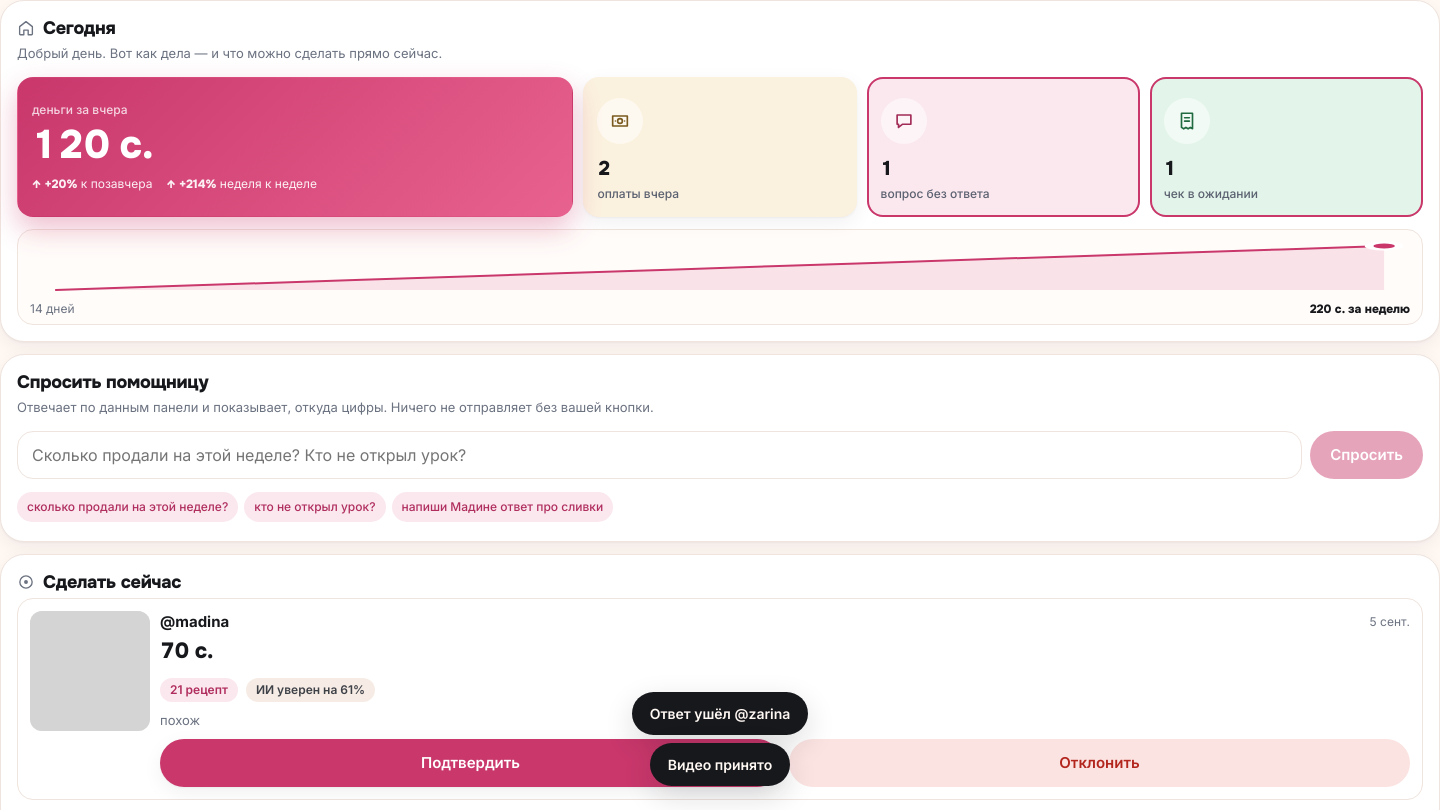
it: DashboardPage «Сегодня» › подтверждение чека из очереди: карточка прячется сразу, запрос уходит через 5 с, «Отменить» его гасит
This screenshot has width=1440, height=810.
Expected: the element with test id "receipt-r1" is shown, [17, 598, 1423, 800]
Click the button "Подтвердить": [470, 763] box [160, 739, 781, 787]
Wait 300 ms
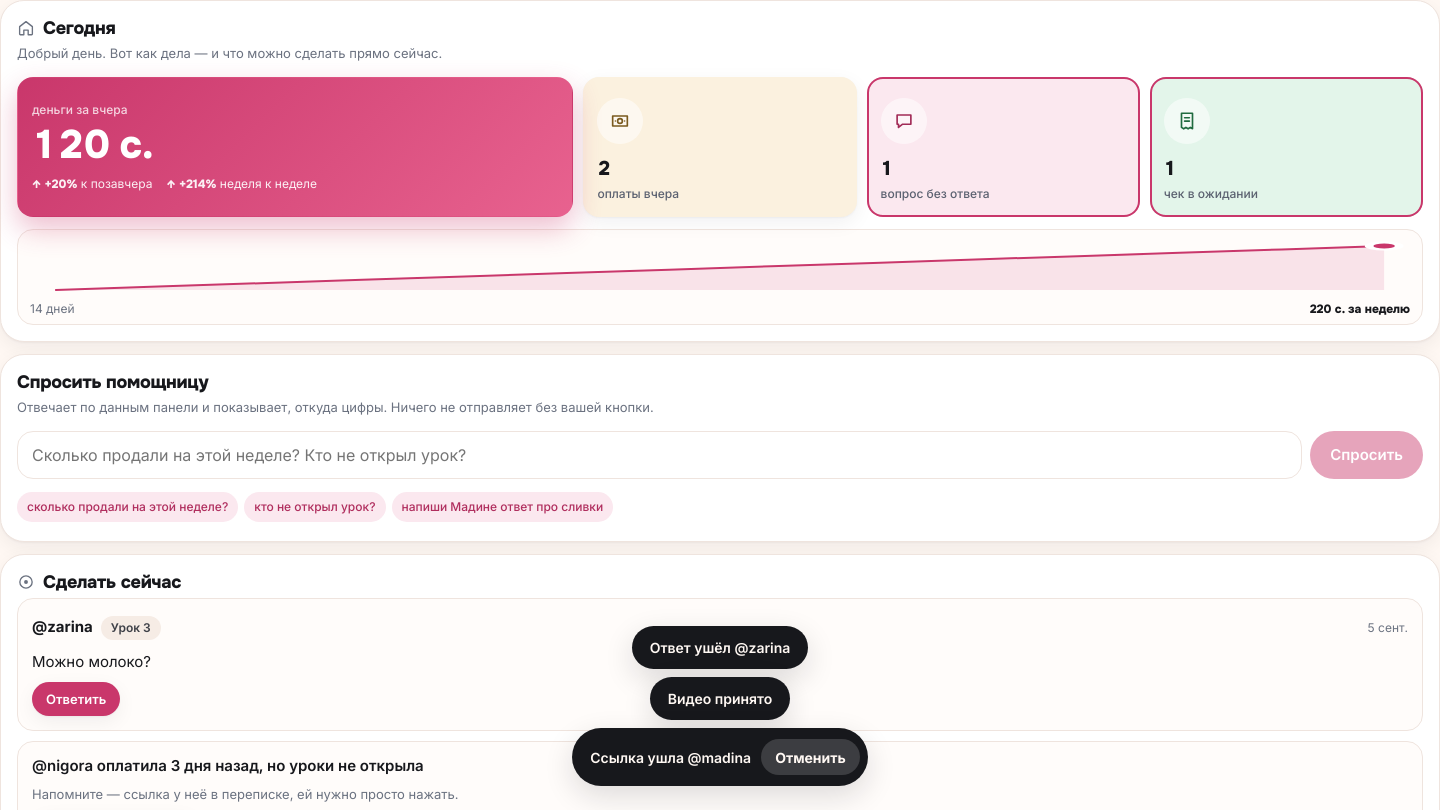
Now the element with test id "receipt-r1" is gone
Now the text "Ссылка ушла @madina" is shown, box [590, 746, 751, 768]
Click the button "Отменить": [810, 757] box [761, 739, 860, 775]
Wait 6000 ms
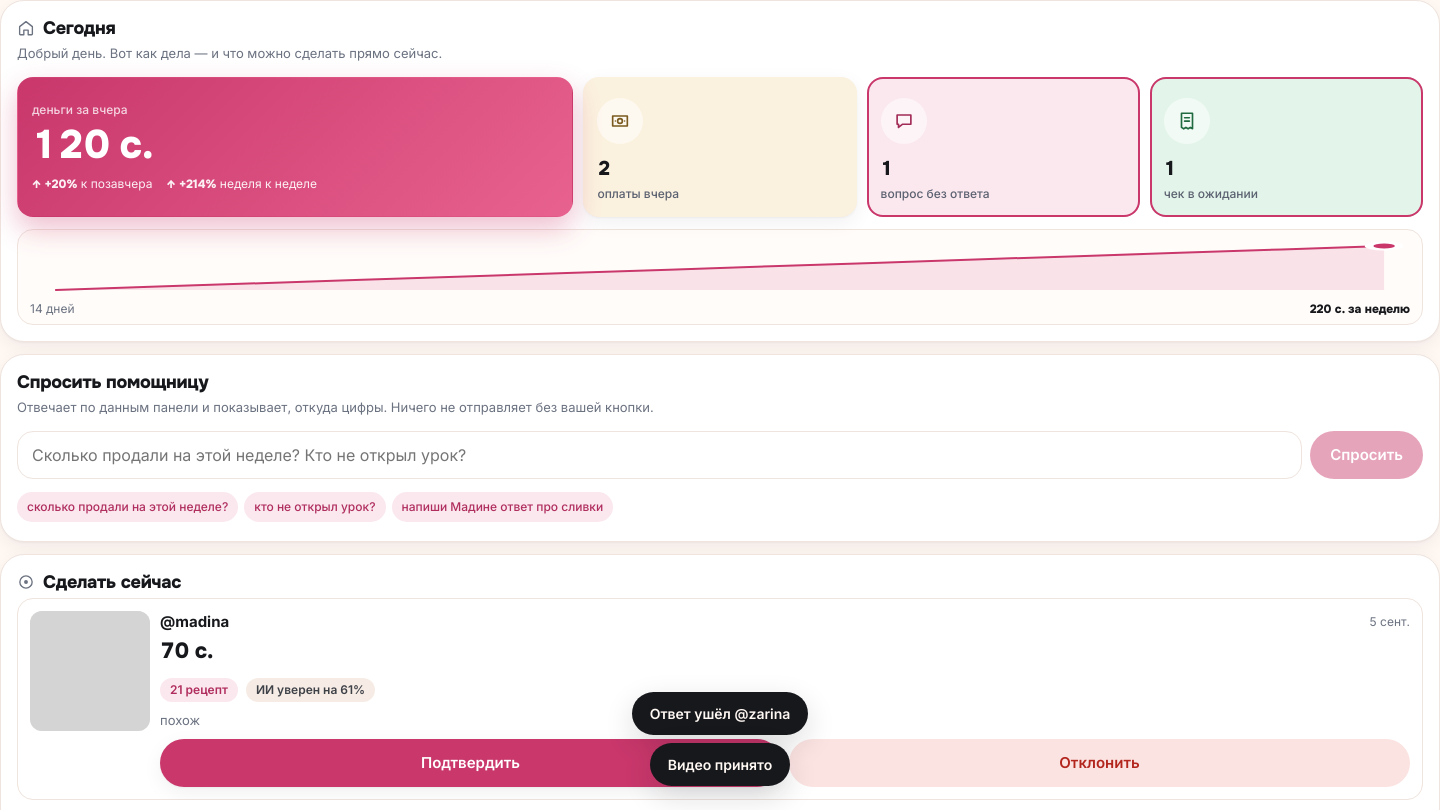
Now the element with test id "receipt-r1" is shown, box [17, 598, 1423, 800]
